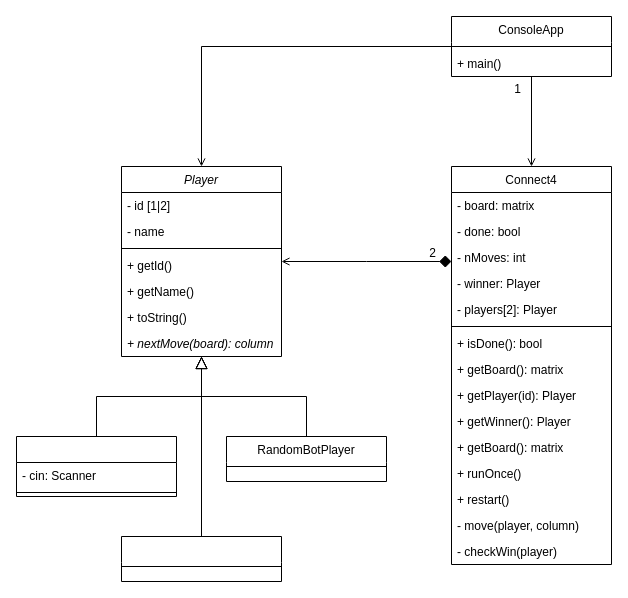
This 628x598 diagram has some shape labels left out. Here are the shapes that lost their labels. From the top down, the box of each, then its label:
(16, 436, 176, 496): ConsoleHumanPlayer
(120, 536, 282, 582): LeftBotPlayer
